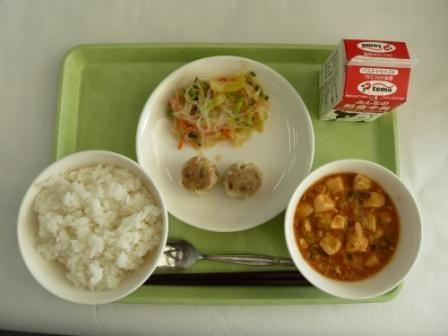Milk: (318, 30, 414, 128)
Rice: (15, 155, 164, 293)
Spicy chili-flavored tofu: (284, 159, 425, 293)
cutlet: (176, 148, 264, 202)
salad with sauce: (159, 67, 272, 147)
